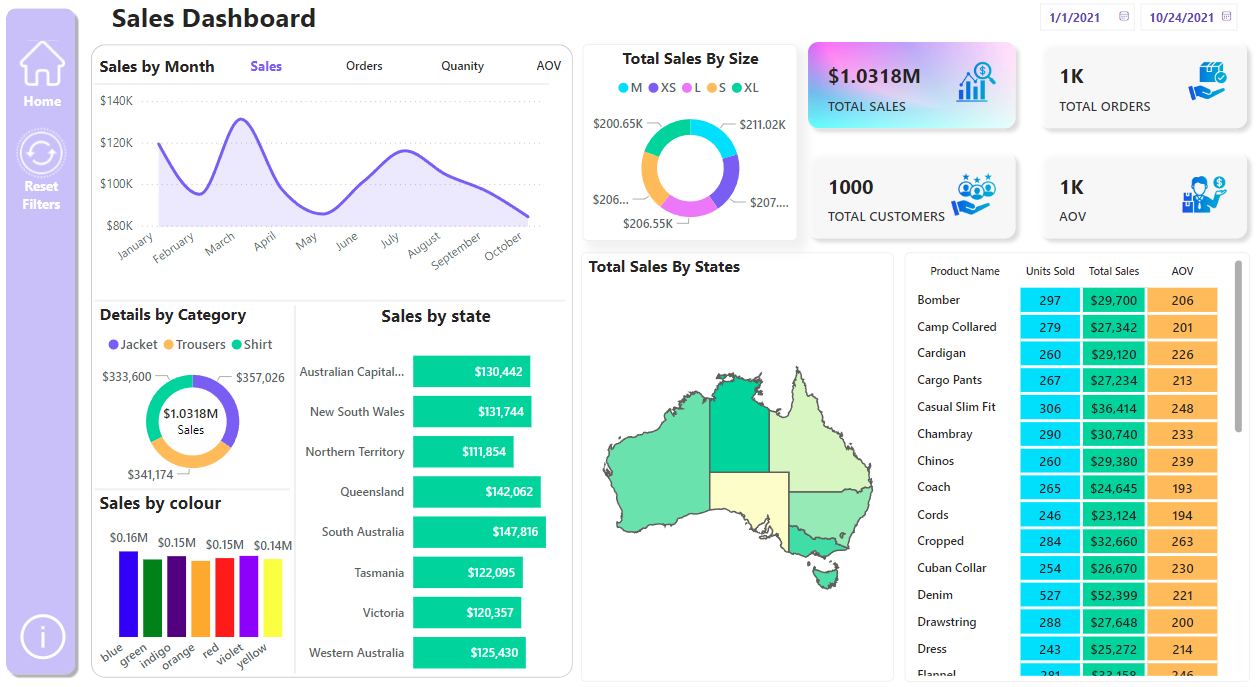

The page's visual inventory and layout, read from the dashboard file:
{"tool":"powerbi","page":{"name":"Page 1","canvas":[1280,720],"ordinal":0},"visuals":[{"type":"shape","box":[98.2,54.5,485.3,638.1],"z":0},{"type":"cardVisual","fields":{"Data":["_Measure.Total Sales","_Measure.TotalOrders","_Measure.Total Customers","_Measure.AOV"]},"box":[803.3,35.8,476.4,233.7],"z":1000},{"type":"areaChart","fields":{"Y":["_Measure.Total Sales"],"Category":["DateTable.Date.Variation.Date Hierarchy.Month"]},"box":[102.5,65.1,458,239.5],"z":2000},{"type":"shape","box":[102.1,297.6,473.7,30.2],"z":3000},{"type":"donutChart","title":"Details by Category","fields":{"Y":["_Measure.Total Sales"],"Category":["products.product_type"]},"box":[102.1,315.1,197.4,187.7],"z":4000},{"type":"advancedSlicerVisual","fields":{"Values":["Metrics.Metrics"]},"box":[240.9,50.1,388.7,52.8],"z":5000},{"type":"cardVisual","fields":{"Data":["_Measure.Total Sales"]},"box":[139.7,381.5,120.9,106.6],"z":6000},{"type":"shape","box":[280.1,317.1,47.7,371.6],"z":7000},{"type":"shapeMap","title":"Total Sales By States","fields":{"Category":["customers.state"],"Value":["_Measure.Total Sales"]},"box":[592.3,263.6,315.1,431.9],"z":8000},{"type":"pivotTable","fields":{"Rows":["products.product_name"],"Values":["_Measure.TotalQuantityByProduct","_Measure.Total Sales","_Measure.AOV"]},"box":[918.2,263.6,347.2,432.8],"z":9000},{"type":"donutChart","title":"Total Sales By Size","fields":{"Category":["products.size"],"Y":["_Measure.Total Sales"]},"box":[594.3,54.5,215.9,197.4],"z":10000},{"type":"shape","box":[7.8,12.6,81.7,682.8],"z":11000},{"type":"textbox","box":[113.8,3.9,462,50.6],"z":12000},{"type":"actionButton","box":[20.4,622.5,73.9,58.4],"z":13000},{"type":"actionButton","box":[22,23,53.7,101.6],"z":14000},{"type":"slicer","fields":{"Values":["DateTable.Date"]},"box":[1040.7,2.9,224.7,47.7],"z":15000},{"type":"clusteredBarChart","fields":{"Y":["_Measure.Total Sales"],"Category":["customers.state"]},"box":[288.4,315.2,314.3,389.6],"z":16000},{"type":"actionButton","box":[14.4,100.6,69,127.4],"z":17000},{"type":"shape","box":[102.1,488.1,197,29.6],"z":19000},{"type":"columnChart","fields":{"Y":["_Measure.Total Sales"],"Category":["products.colour"]},"box":[102.1,503.3,204.2,202.4],"z":20000}]}

Visuals, with their boxes on the page's 1280x720 design canvas (x1, y1, x2, y2). These are canvas units, not pixel positions in the 1258x687 screenshot, which may show the page scaled, cropped or inside an application window:
shape: x1=98, y1=54, x2=584, y2=693
cardVisual - _Measure.Total Sales x _Measure.TotalOrders: x1=803, y1=36, x2=1280, y2=270
areaChart - _Measure.Total Sales x DateTable.Date.Variation.Date Hierarchy.Month: x1=102, y1=65, x2=560, y2=305
shape: x1=102, y1=298, x2=576, y2=328
"Details by Category" donutChart: x1=102, y1=315, x2=300, y2=503
advancedSlicerVisual - Metrics.Metrics: x1=241, y1=50, x2=630, y2=103
cardVisual - _Measure.Total Sales: x1=140, y1=382, x2=261, y2=488
shape: x1=280, y1=317, x2=328, y2=689
"Total Sales By States" shapeMap: x1=592, y1=264, x2=907, y2=696
pivotTable - products.product_name x _Measure.TotalQuantityByProduct: x1=918, y1=264, x2=1265, y2=696
"Total Sales By Size" donutChart: x1=594, y1=54, x2=810, y2=252
shape: x1=8, y1=13, x2=90, y2=695
textbox: x1=114, y1=4, x2=576, y2=54
actionButton: x1=20, y1=622, x2=94, y2=681
actionButton: x1=22, y1=23, x2=76, y2=125
slicer - DateTable.Date: x1=1041, y1=3, x2=1265, y2=51
clusteredBarChart - _Measure.Total Sales x customers.state: x1=288, y1=315, x2=603, y2=705
actionButton: x1=14, y1=101, x2=83, y2=228
shape: x1=102, y1=488, x2=299, y2=518
columnChart - _Measure.Total Sales x products.colour: x1=102, y1=503, x2=306, y2=706
